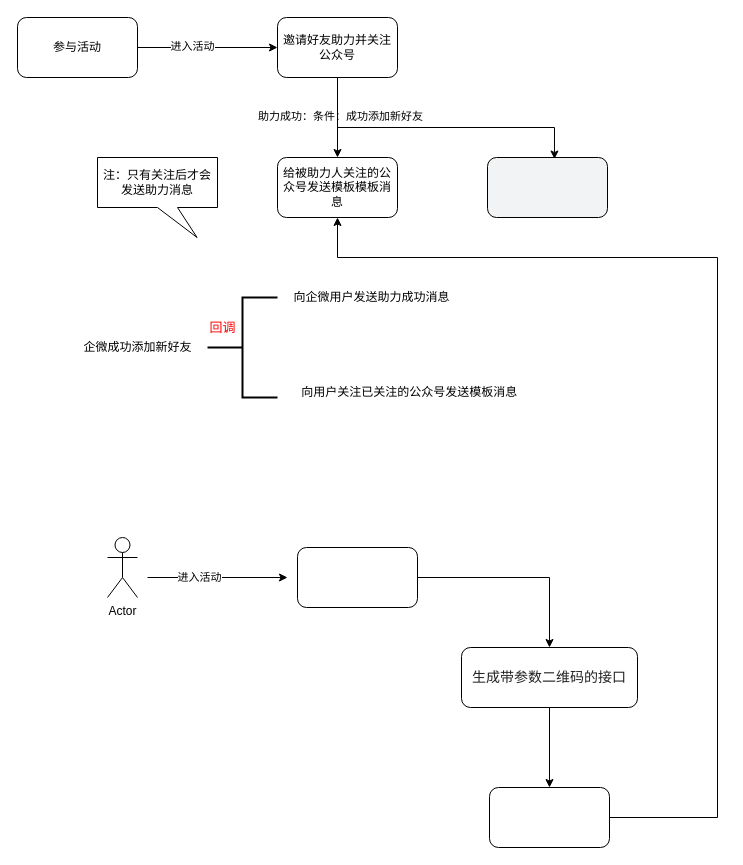
Some shapes in this 743 by 865 pixel diagram are drawn without their labels. The shapes that lost their labels are listed below. From the top down, each one's centre as x and y in pixels, then its label:
At point (547, 187): "给企微发送助力成功的消息（已完成）".
At point (357, 577): "添加公众号".
At point (549, 817): "长按扫描关注".
